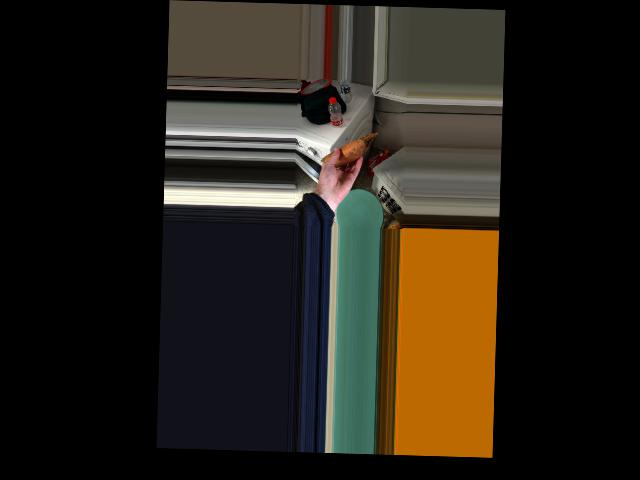sweet_potato: (329, 139, 364, 167)
